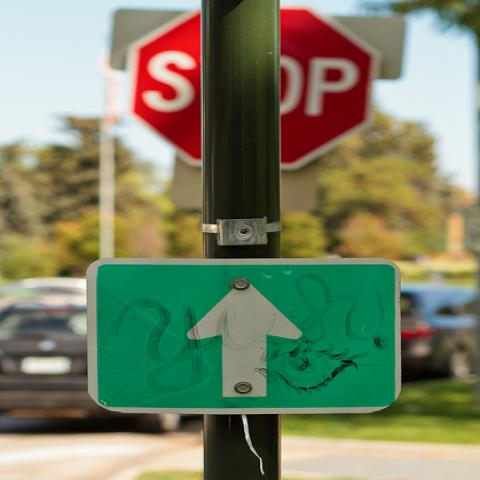car: (0, 293, 183, 433), (399, 284, 479, 380)
